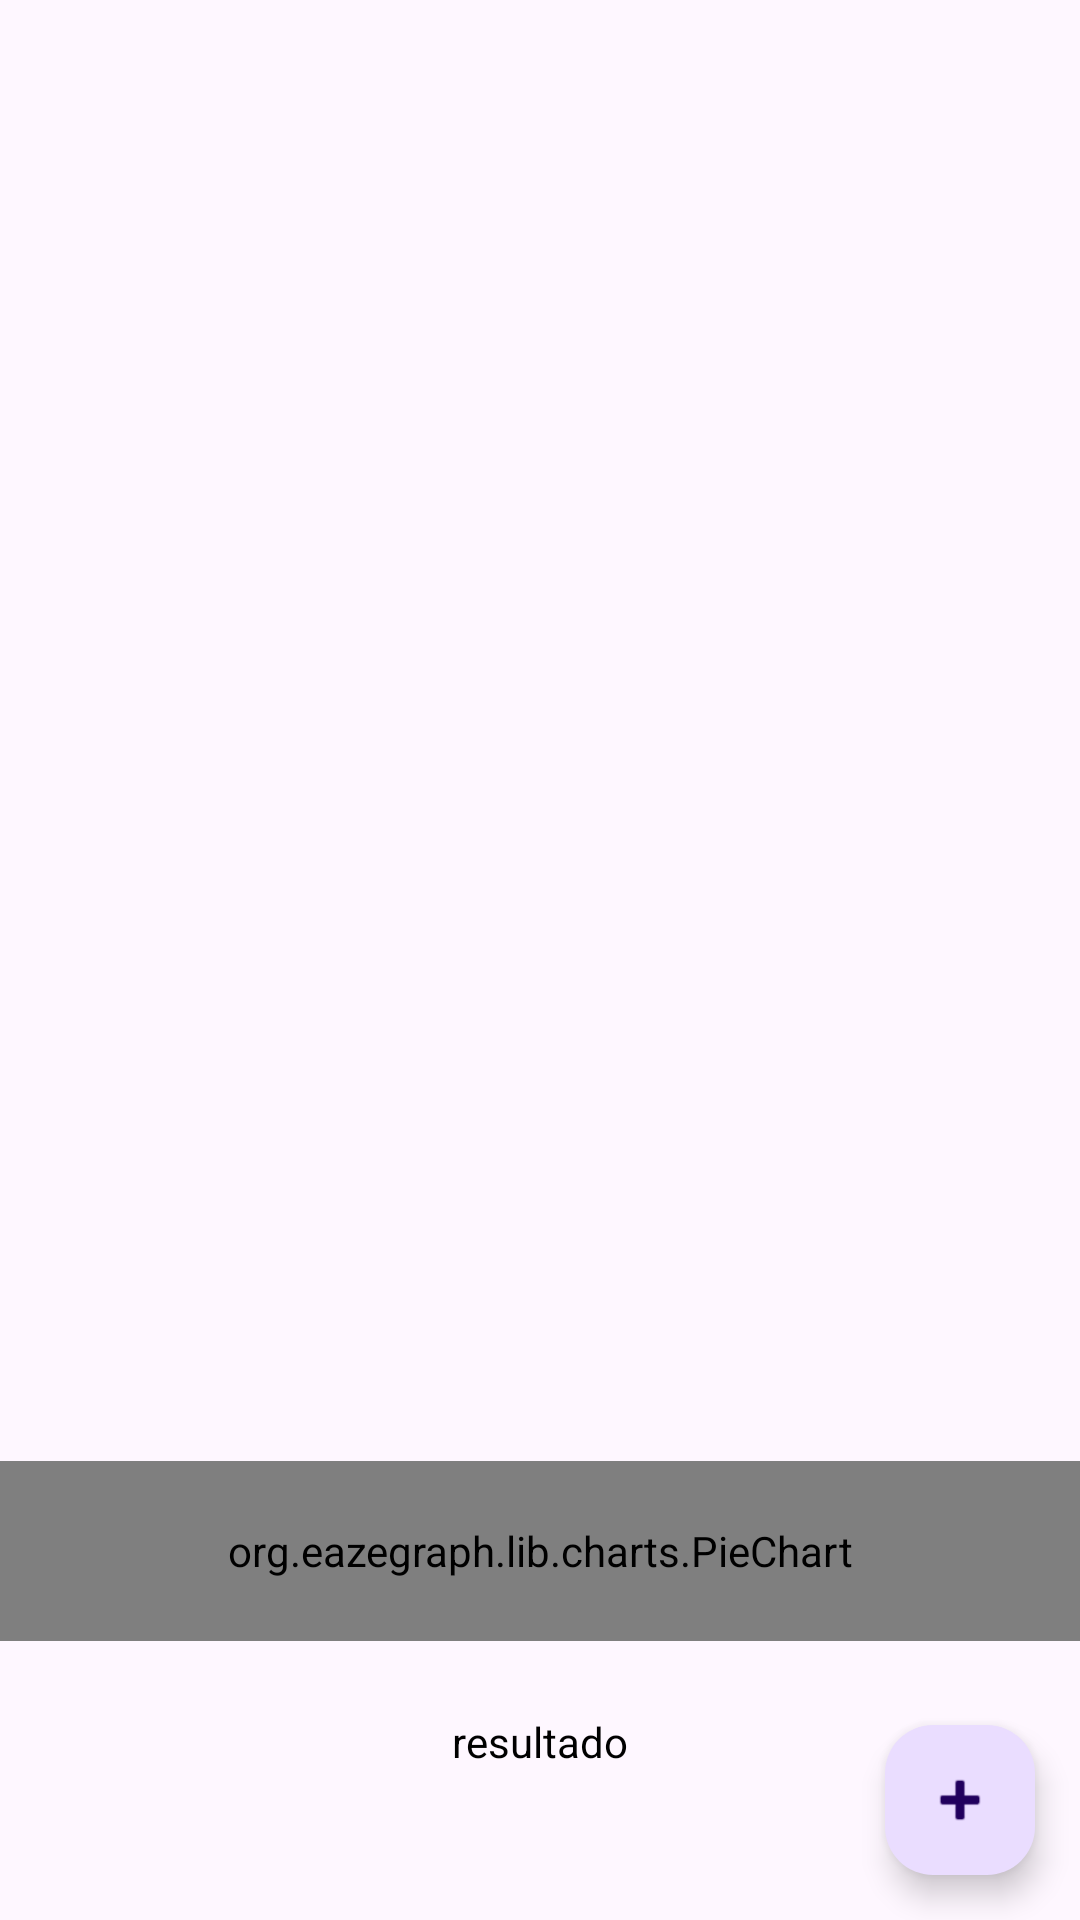

Screen size 1080×1920. Icon name, then its center in pixels as (x,y):
add: (960,1800)
